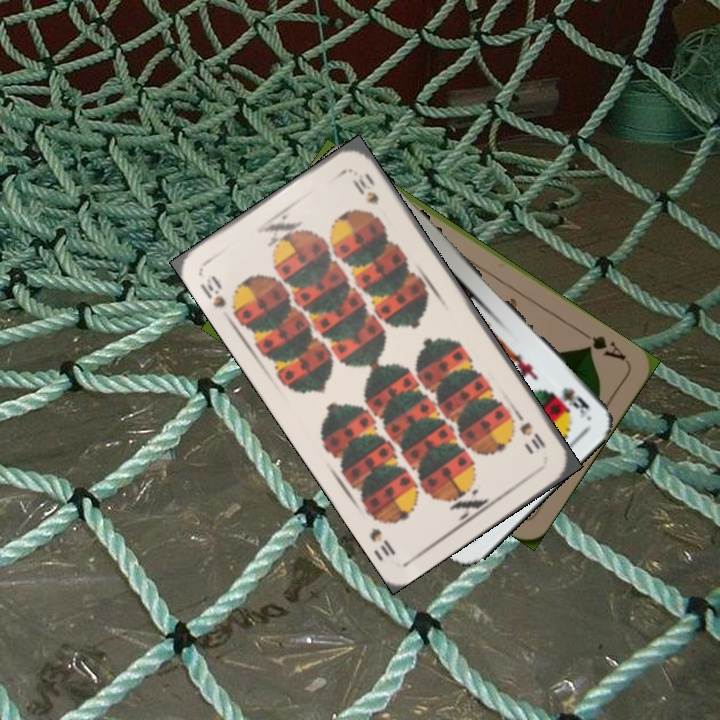GA: (576, 327, 629, 363)
S10: (511, 407, 549, 453), (195, 271, 229, 311)
SK: (557, 383, 593, 421)
